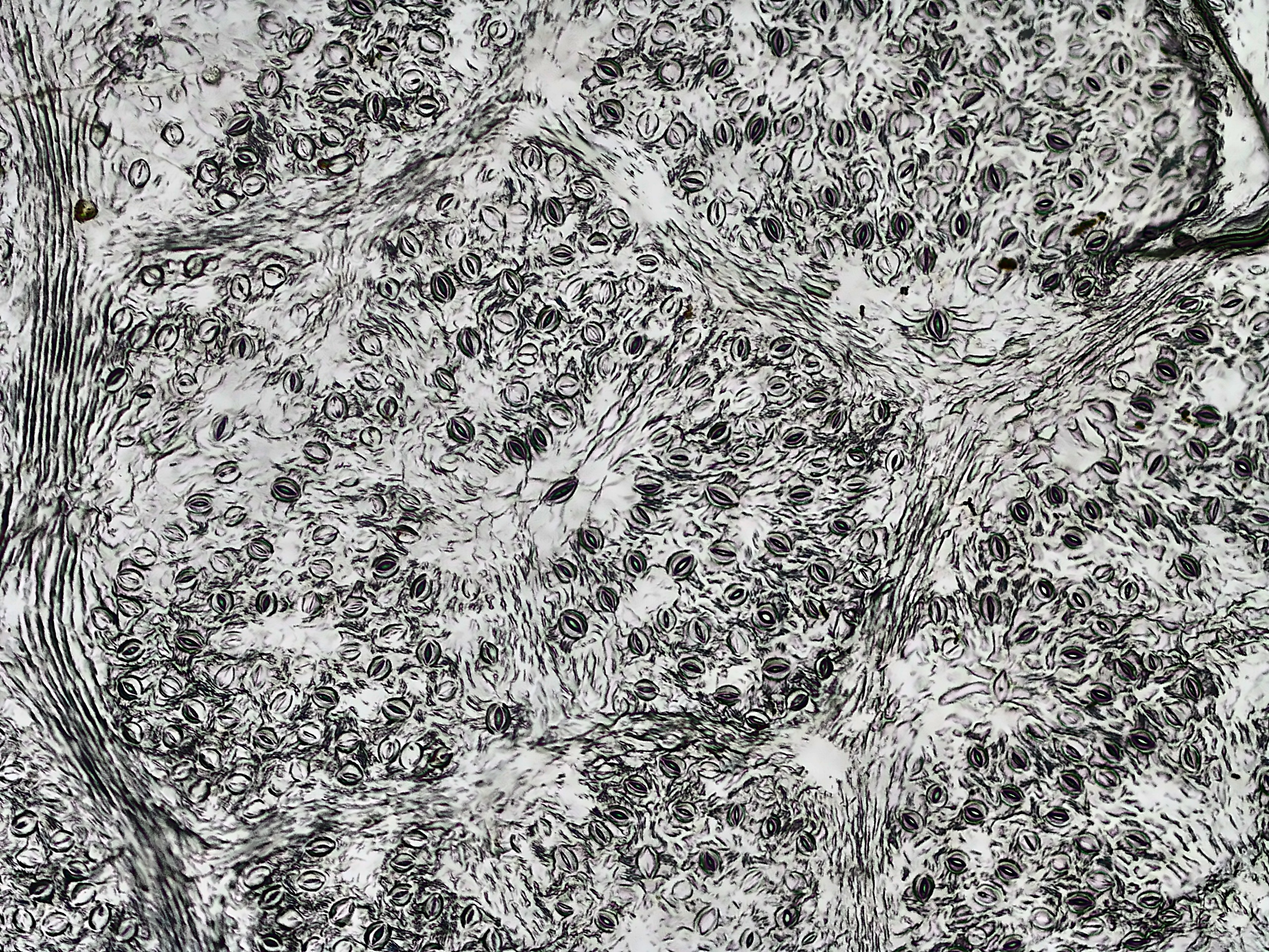stomata: (408, 564, 453, 609), (697, 476, 753, 511), (170, 625, 228, 655), (209, 579, 253, 618), (452, 317, 486, 367), (539, 471, 586, 506), (549, 602, 590, 642), (412, 631, 454, 669), (370, 546, 416, 580), (482, 696, 519, 738), (1179, 740, 1215, 782), (3, 805, 45, 840), (649, 53, 687, 91), (222, 266, 259, 305), (447, 409, 484, 448), (973, 47, 1014, 82), (924, 585, 961, 623), (863, 390, 904, 424), (654, 746, 692, 782), (668, 790, 703, 829), (181, 488, 227, 517), (1052, 767, 1096, 797), (582, 806, 610, 853), (704, 536, 746, 567), (423, 184, 471, 211), (618, 765, 653, 802), (365, 33, 408, 63), (738, 706, 781, 736), (671, 653, 717, 681), (1167, 548, 1206, 581), (234, 792, 278, 821), (320, 382, 351, 423), (1232, 349, 1267, 385), (531, 298, 568, 332), (668, 546, 701, 584), (572, 523, 611, 555), (1133, 495, 1164, 535), (308, 680, 349, 710), (1040, 68, 1075, 103), (414, 22, 450, 56), (736, 860, 772, 894), (965, 735, 998, 772), (113, 668, 145, 706), (154, 310, 182, 353), (636, 843, 666, 883), (1179, 29, 1219, 59), (708, 675, 748, 705), (931, 41, 965, 76), (235, 858, 276, 887), (38, 906, 74, 939), (1109, 47, 1145, 80), (258, 258, 295, 290), (1130, 821, 1167, 853), (543, 552, 581, 583), (730, 333, 764, 367), (340, 585, 373, 620), (1196, 78, 1229, 113), (979, 161, 1011, 197), (950, 199, 978, 240), (982, 588, 1012, 626), (302, 834, 347, 859), (121, 631, 154, 665), (493, 263, 525, 298), (991, 250, 1031, 278), (1021, 713, 1061, 741), (397, 64, 433, 95), (854, 555, 884, 592), (319, 150, 365, 174), (765, 212, 794, 250), (323, 37, 356, 70), (432, 363, 465, 396), (178, 248, 212, 280), (137, 258, 171, 290), (767, 327, 801, 359), (192, 310, 223, 345), (327, 890, 357, 926), (521, 421, 561, 448), (955, 84, 991, 114), (925, 303, 950, 346), (269, 476, 306, 505), (889, 102, 918, 139), (954, 797, 992, 825), (594, 801, 638, 825), (487, 302, 520, 334), (1039, 220, 1071, 253), (428, 271, 459, 305), (698, 1, 733, 31), (1084, 395, 1120, 424), (763, 529, 799, 558), (1060, 736, 1096, 765), (1095, 766, 1132, 794), (1064, 882, 1101, 910), (333, 761, 371, 788), (704, 190, 731, 228), (593, 576, 620, 614), (1127, 726, 1168, 751), (1028, 572, 1060, 604), (362, 917, 395, 948), (809, 555, 842, 586), (66, 873, 96, 907), (608, 12, 638, 46), (225, 108, 260, 137), (623, 625, 652, 660), (542, 238, 577, 267), (629, 108, 658, 143), (1154, 112, 1189, 141), (1004, 496, 1039, 525), (940, 635, 975, 664), (262, 578, 284, 624), (124, 156, 152, 192), (763, 652, 799, 680), (1178, 674, 1214, 702), (253, 9, 293, 34), (295, 865, 332, 892), (1182, 434, 1214, 465), (693, 846, 726, 876), (692, 753, 725, 783), (597, 98, 627, 131), (349, 365, 387, 391), (302, 436, 336, 465), (125, 318, 154, 352), (985, 529, 1014, 563), (484, 17, 519, 45), (645, 603, 680, 631), (365, 85, 390, 124), (1189, 402, 1225, 429), (201, 547, 238, 573), (694, 899, 720, 936), (12, 844, 52, 868), (176, 698, 216, 722), (301, 720, 333, 750), (474, 640, 504, 672), (1150, 353, 1182, 383), (255, 720, 284, 753), (354, 329, 388, 357), (826, 119, 854, 153), (1159, 155, 1193, 183), (1067, 272, 1101, 300), (380, 695, 418, 720), (374, 729, 401, 764), (552, 840, 579, 875), (993, 854, 1034, 877), (395, 491, 434, 515), (819, 182, 845, 218), (1041, 130, 1080, 154), (1056, 166, 1092, 192), (1028, 904, 1067, 928), (339, 722, 370, 752), (103, 302, 133, 333), (363, 421, 394, 451), (655, 291, 685, 322), (943, 122, 973, 153), (1035, 264, 1066, 294), (907, 870, 938, 900), (385, 879, 417, 908), (171, 366, 200, 398), (1098, 736, 1130, 765), (226, 147, 263, 172), (439, 215, 467, 248), (622, 326, 649, 360), (271, 904, 306, 930), (971, 882, 1006, 908), (1143, 635, 1165, 676), (117, 716, 147, 746), (552, 371, 588, 396), (621, 547, 651, 577), (1074, 829, 1110, 854), (6, 903, 35, 934), (431, 675, 462, 704), (709, 119, 738, 150), (427, 739, 455, 771), (186, 773, 213, 806), (1116, 99, 1149, 126), (1091, 454, 1124, 481), (1008, 742, 1035, 775), (306, 521, 343, 545), (591, 58, 631, 80), (89, 112, 114, 147), (506, 435, 536, 464), (828, 509, 858, 538), (856, 109, 887, 137), (1065, 584, 1096, 612), (241, 537, 277, 561), (131, 545, 163, 572), (157, 515, 189, 542), (209, 411, 236, 443), (375, 274, 407, 301), (583, 230, 615, 257), (1081, 872, 1124, 892), (913, 243, 939, 276), (633, 474, 670, 497), (944, 851, 978, 876), (617, 389, 646, 418), (254, 883, 289, 907), (233, 173, 268, 197), (633, 677, 663, 705), (886, 440, 910, 475), (1149, 904, 1191, 924), (115, 591, 146, 618), (420, 888, 447, 919), (214, 661, 240, 693), (223, 771, 257, 795), (316, 121, 350, 145), (1087, 680, 1121, 704), (725, 795, 747, 832), (289, 131, 317, 160), (876, 252, 904, 281), (1118, 574, 1146, 603), (687, 616, 716, 644), (88, 604, 118, 631), (100, 363, 127, 393), (570, 173, 600, 200), (1144, 447, 1171, 477), (367, 652, 393, 683), (371, 393, 402, 419), (256, 67, 287, 93), (592, 905, 623, 931), (396, 226, 422, 257), (849, 222, 875, 253), (1123, 184, 1154, 210), (722, 584, 753, 610), (280, 361, 303, 396), (816, 57, 851, 80), (837, 472, 872, 495), (545, 405, 577, 430), (305, 556, 338, 580), (744, 113, 766, 149), (358, 489, 386, 517), (726, 87, 754, 115), (199, 743, 226, 772), (664, 120, 691, 149), (708, 53, 737, 80), (1017, 824, 1044, 853), (768, 23, 791, 57), (1044, 807, 1078, 830), (117, 570, 156, 590), (515, 343, 545, 369), (479, 201, 505, 231), (852, 163, 878, 193), (596, 351, 622, 381), (115, 913, 140, 944), (387, 849, 418, 874), (400, 824, 431, 849), (1217, 290, 1252, 312), (412, 92, 444, 116), (542, 196, 566, 228), (676, 326, 708, 350), (1066, 642, 1098, 666), (378, 622, 416, 642), (1091, 0, 1124, 23), (1188, 135, 1221, 158), (994, 783, 1027, 806), (608, 202, 636, 229), (1001, 220, 1029, 247), (905, 73, 933, 100), (1083, 227, 1111, 254), (997, 931, 1033, 952), (758, 811, 784, 840), (582, 317, 611, 343), (816, 654, 842, 683), (130, 380, 155, 410), (1089, 560, 1119, 585), (846, 443, 876, 468), (730, 445, 764, 467), (1113, 645, 1135, 679), (1145, 74, 1176, 98), (801, 387, 838, 407), (764, 147, 787, 179), (1182, 193, 1214, 216), (402, 735, 423, 770), (1166, 229, 1201, 250), (159, 673, 187, 699), (169, 755, 197, 781), (691, 368, 719, 394), (800, 591, 826, 619), (1092, 613, 1118, 641), (670, 878, 699, 903), (500, 380, 529, 405), (1084, 71, 1109, 100), (1094, 141, 1123, 166), (86, 901, 110, 931), (163, 118, 187, 148), (669, 447, 701, 469), (1029, 192, 1066, 211), (767, 370, 793, 397), (898, 805, 925, 831), (160, 720, 185, 748), (897, 156, 922, 184), (30, 872, 54, 901), (320, 83, 353, 104), (1061, 38, 1094, 59), (484, 922, 507, 952), (1135, 886, 1169, 906), (290, 26, 316, 52), (287, 300, 312, 327), (230, 333, 254, 361), (921, 0, 953, 21), (1176, 291, 1208, 312), (1045, 483, 1073, 507), (808, 454, 836, 478), (652, 20, 681, 43), (794, 353, 831, 371), (778, 900, 800, 930), (779, 424, 809, 446), (1226, 456, 1257, 477), (887, 213, 913, 238), (814, 0, 839, 26), (899, 32, 925, 57), (53, 827, 77, 854), (600, 276, 619, 310), (843, 0, 877, 19), (1206, 495, 1229, 523), (1079, 498, 1107, 521), (1051, 852, 1079, 875), (197, 156, 219, 185), (787, 196, 816, 218), (206, 192, 239, 211), (517, 144, 542, 169), (458, 900, 482, 926), (219, 457, 243, 483), (651, 422, 675, 448), (173, 568, 203, 588), (628, 272, 653, 296), (1063, 528, 1093, 548), (786, 485, 821, 502), (709, 421, 736, 443), (390, 525, 427, 541), (351, 0, 382, 19), (798, 827, 817, 858), (635, 252, 664, 272), (1118, 931, 1152, 948), (546, 154, 570, 178), (930, 783, 954, 807), (756, 605, 781, 628), (794, 147, 816, 173), (304, 587, 323, 617), (832, 404, 851, 434), (271, 688, 292, 715), (1034, 33, 1055, 60), (1128, 154, 1155, 175), (335, 639, 363, 659), (156, 406, 184, 426), (1164, 707, 1192, 727), (1080, 916, 1108, 936), (62, 862, 93, 880), (678, 168, 709, 186), (634, 502, 657, 526), (1019, 622, 1042, 646), (786, 694, 815, 713), (221, 507, 248, 527), (257, 931, 284, 951), (461, 249, 479, 279), (788, 112, 806, 141), (1251, 308, 1269, 337), (1185, 324, 1213, 342), (549, 897, 574, 917), (740, 927, 766, 946), (1107, 370, 1133, 389), (1131, 397, 1155, 416), (965, 927, 993, 943), (784, 869, 802, 892), (667, 366, 686, 387)
